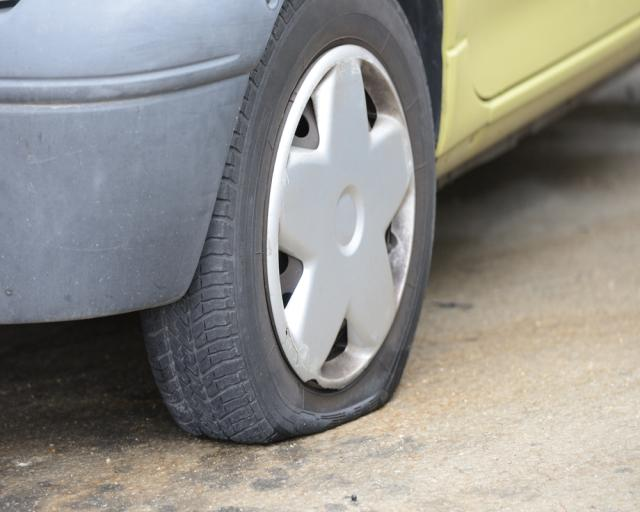tire flat: (141, 0, 437, 445)
